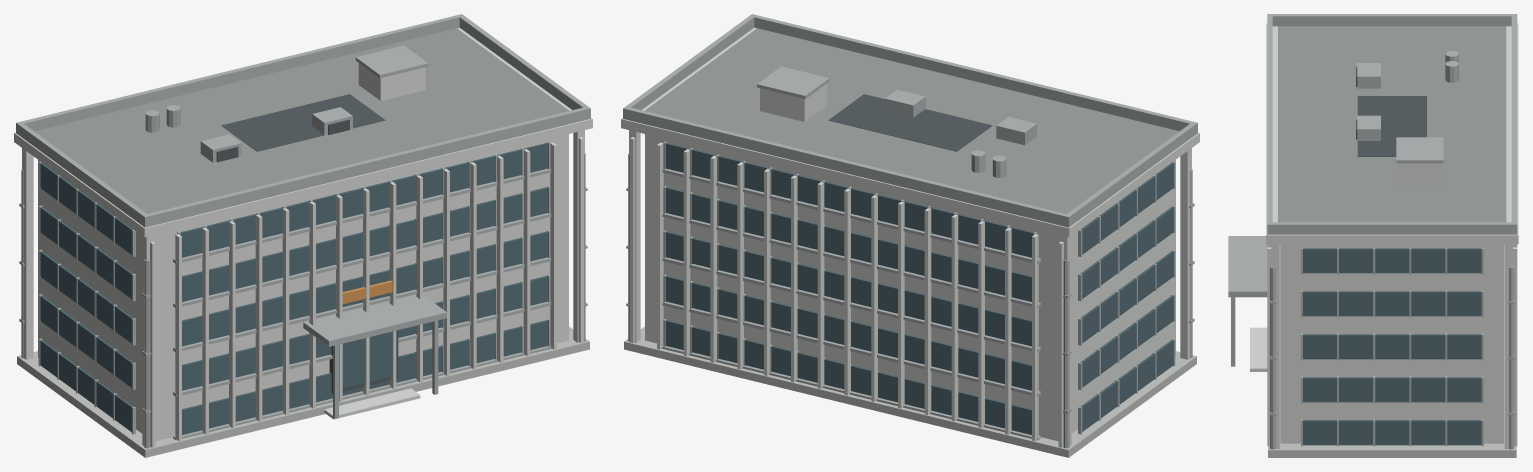
Rendered from wisdomcenter.glb.
The picture shows the model from 3 angles, left to right: view 1: azimuth 30°, elevation 25°; view 2: azimuth 150°, elevation 25°; view 3: azimuth 270°, elevation 25°; orthographic projection. The views are drawn at different scales.
Parts seen in each view (by area): view 1: wisdomcenter; view 2: wisdomcenter; view 3: wisdomcenter.
Part boxes in pixels (left/top/right/bottom): wisdomcenter: left=14, top=14, right=592, bottom=457; wisdomcenter: left=621, top=14, right=1199, bottom=457; wisdomcenter: left=1228, top=14, right=1518, bottom=457.
Size of the model in its own units: 7.22 by 4.01 by 4.18.
